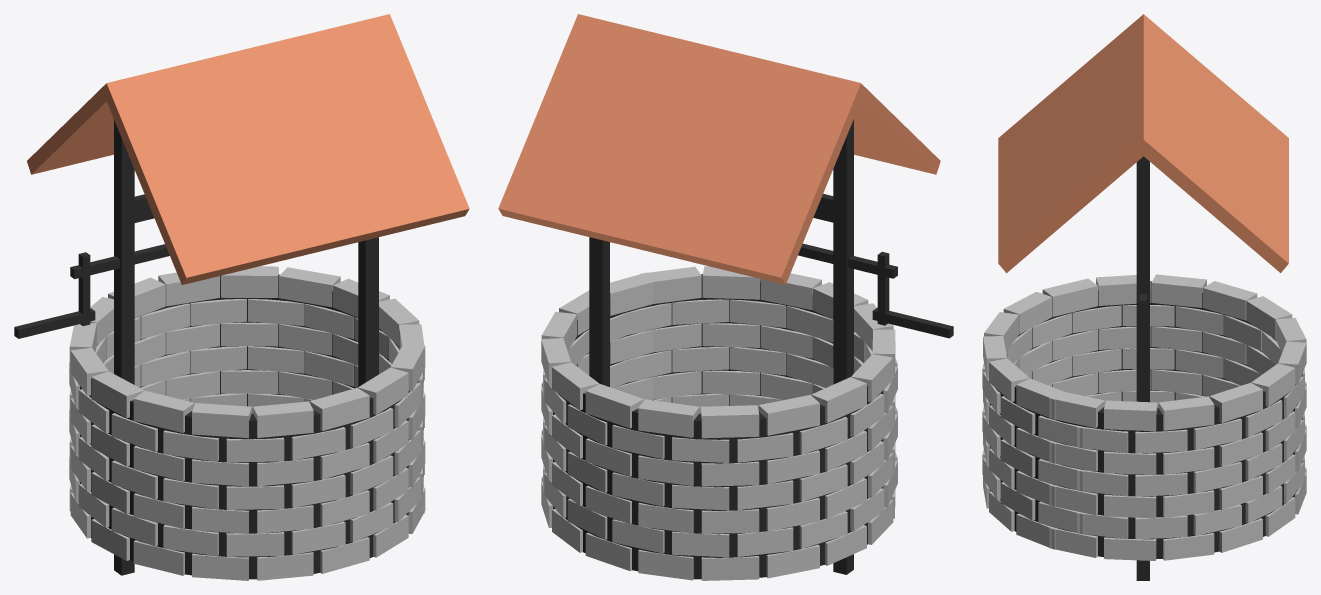
The model's file is Well.glb.
The picture shows the model from 3 angles, left to right: view 1: azimuth 30°, elevation 25°; view 2: azimuth 150°, elevation 25°; view 3: azimuth 270°, elevation 25°; orthographic projection. The views are drawn at different scales.
Visible parts, largest first — view 1: Box20413, Cylinder002, Box20407, Box20389, Box20412, Box20383, Box20398, Box20410, Box20395, Box20401, Box20411, Box20403 (+69 smaller); view 2: Box20389, Cylinder002, Box20407, Box20413, Box20412, Box20392, Box20388, Box20406, Box20394, Box20408, Box20393, Box20397 (+68 smaller); view 3: Box20389, Box20413, Cylinder002, Box20412, Box20399, Box20391, Box20397, Box20384, Box20395, Box20410, Box20406, Box20398 (+74 smaller).
Part boxes in pixels (bbox=[...]): Box20413: bbox=[102, 14, 469, 284]; Cylinder002: bbox=[78, 274, 418, 579]; Box20407: bbox=[114, 120, 134, 575]; Box20389: bbox=[27, 14, 389, 174]; Box20412: bbox=[358, 237, 378, 386]; Box20383: bbox=[253, 401, 313, 437]; Box20398: bbox=[192, 403, 251, 438]; Box20410: bbox=[279, 267, 340, 307]; Box20395: bbox=[133, 390, 194, 432]; Box20401: bbox=[309, 388, 369, 431]; Box20411: bbox=[221, 266, 278, 297]; Box20403: bbox=[91, 371, 144, 418]; Box20389: bbox=[498, 14, 865, 284]; Cylinder002: bbox=[551, 274, 883, 579]; Box20407: bbox=[833, 119, 853, 574]; Box20413: bbox=[586, 16, 940, 174]; Box20412: bbox=[589, 237, 609, 386]; Box20392: bbox=[700, 405, 759, 438]; Box20388: bbox=[638, 399, 699, 437]; Box20406: bbox=[758, 395, 819, 435]; Box20394: bbox=[585, 384, 644, 428]; Box20408: bbox=[640, 266, 701, 303]; Box20393: bbox=[702, 266, 760, 299]; Box20397: bbox=[811, 377, 866, 422]; Box20389: bbox=[1135, 14, 1288, 272]; Box20413: bbox=[998, 15, 1150, 272]; Cylinder002: bbox=[990, 281, 1302, 558]; Box20412: bbox=[1136, 156, 1149, 580]; Box20399: bbox=[1158, 396, 1214, 430]; Box20391: bbox=[1104, 400, 1157, 431]; Box20397: bbox=[1151, 274, 1206, 307]; Box20384: bbox=[1049, 390, 1104, 428]; Box20395: bbox=[1042, 278, 1098, 316]; Box20410: bbox=[1209, 382, 1262, 422]; Box20406: bbox=[1203, 281, 1257, 320]; Box20398: bbox=[1003, 291, 1052, 334].
Bounding box in the file's own units: 3393 × 4139 × 2717.
